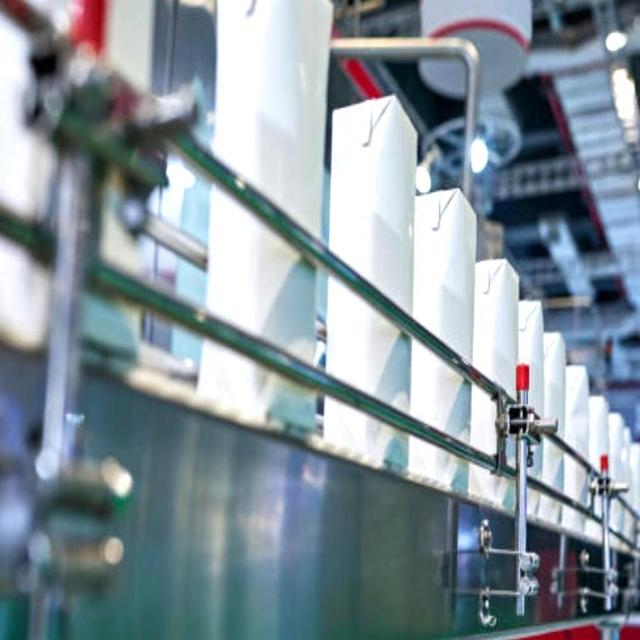food: (322, 92, 419, 470), (408, 186, 478, 488)
